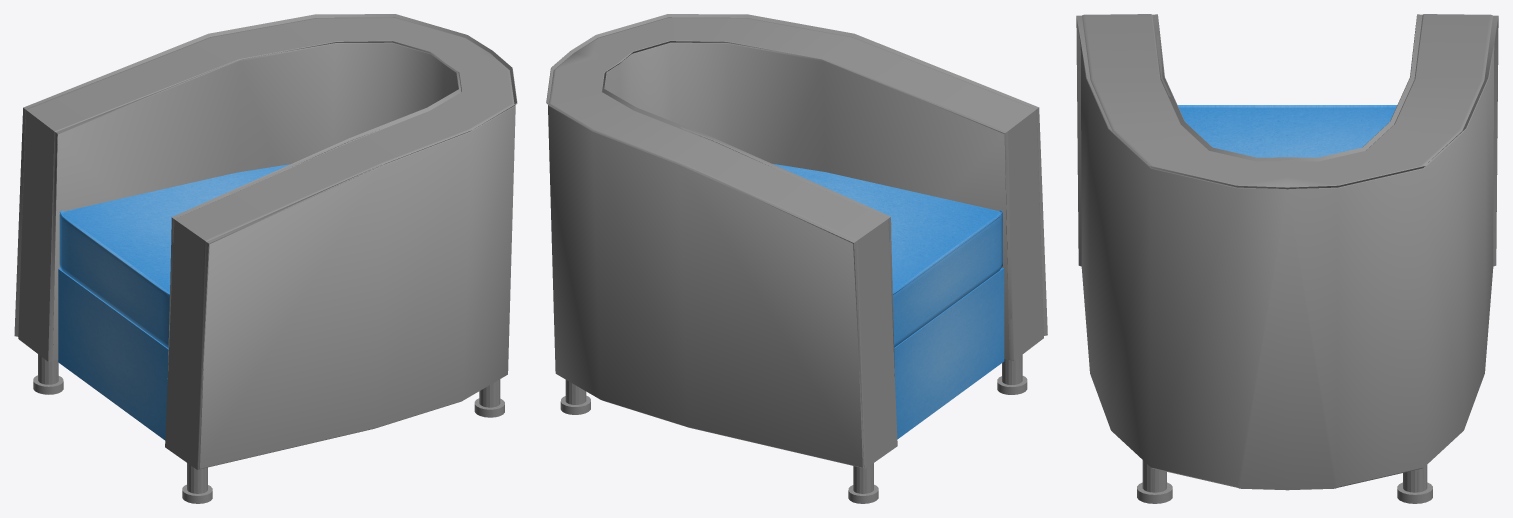
The model's file is armchair.FBX.
3 renders of one model, left to right at view 1: azimuth 30°, elevation 25°; view 2: azimuth 150°, elevation 25°; view 3: azimuth 270°, elevation 25°, orthographic. The views are drawn at different scales.
Visible parts, largest first — view 1: Line001, Box001, Box002, Cylinder001, Cylinder002, Cylinder003; view 2: Line001, Box001, Box002, Cylinder002, Cylinder001, Cylinder004; view 3: Line001, Box001, Cylinder003, Cylinder004.
Part boxes in pixels (<box>): Line001: <box>14,14,517,469</box>; Box001: <box>59,164,289,348</box>; Box002: <box>58,268,168,440</box>; Cylinder001: <box>182,463,212,503</box>; Cylinder002: <box>33,354,63,394</box>; Cylinder003: <box>474,379,504,417</box>; Line001: <box>546,14,1047,468</box>; Box001: <box>773,164,1002,347</box>; Box002: <box>894,268,1004,439</box>; Cylinder002: <box>848,463,878,503</box>; Cylinder001: <box>997,355,1027,394</box>; Cylinder004: <box>560,380,590,414</box>; Line001: <box>1076,14,1498,490</box>; Box001: <box>1177,105,1397,157</box>; Cylinder003: <box>1137,460,1172,503</box>; Cylinder004: <box>1397,465,1432,503</box>.
Size of the model in its own units: 20.59 by 15.55 by 17.12.
